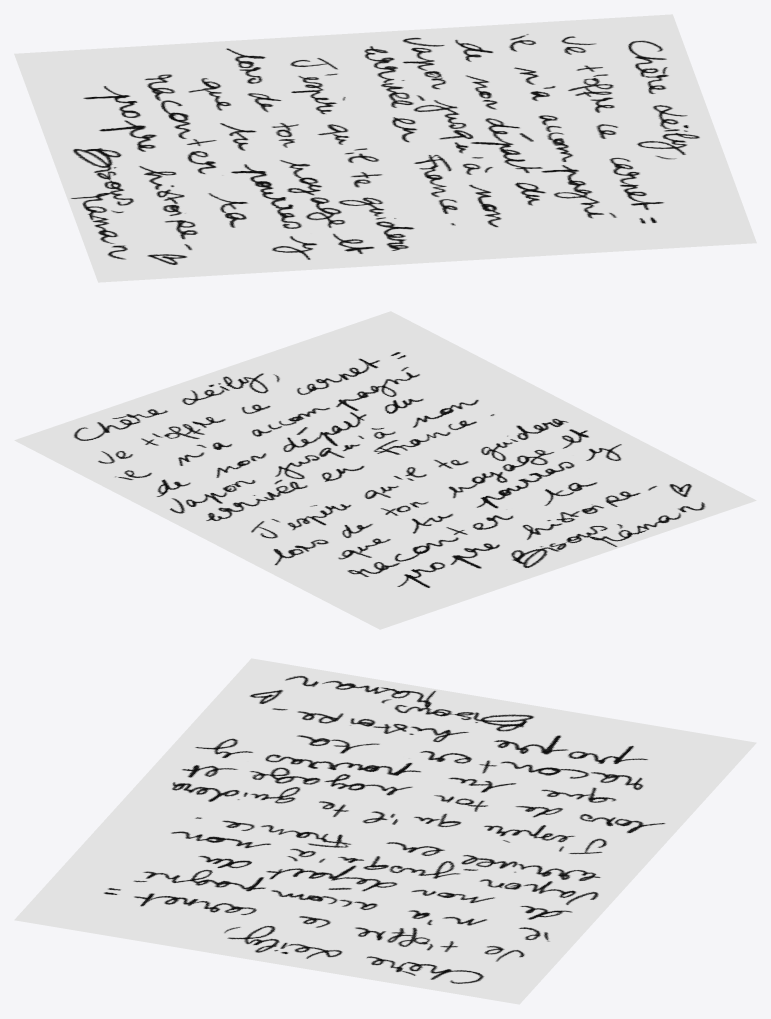
File: postIt2.glb
3 views of the same model, one above another, from view 1: azimuth 30°, elevation 25°; view 2: azimuth 150°, elevation 25°; view 3: azimuth 270°, elevation 25° (orthographic). The views are drawn at different scales.
Parts seen in each view (by area): view 1: MomLetter; view 2: MomLetter; view 3: MomLetter.
Part boxes in pixels (left/top/right/bottom): MomLetter: left=14, top=14, right=756, bottom=282; MomLetter: left=14, top=311, right=756, bottom=629; MomLetter: left=14, top=658, right=756, bottom=1004.
Bounding box in the file's own units: 2.77 × 0.0186 × 2.55.
Materials: 1 (1 with a texture image).
